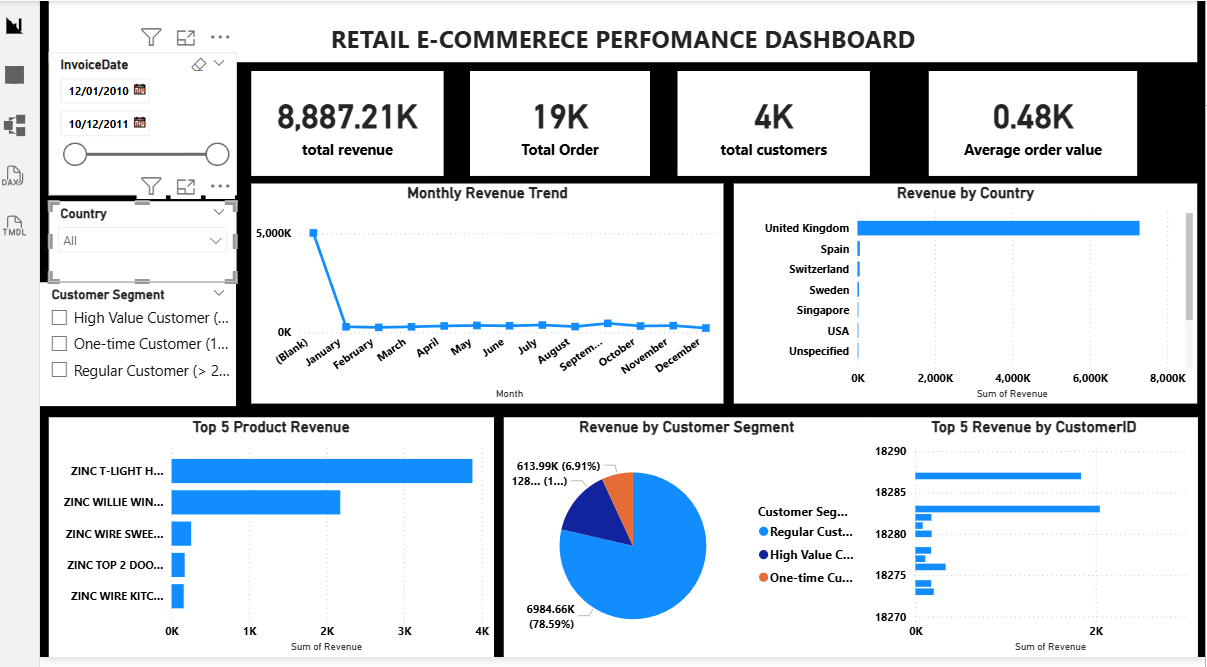

The page's visual inventory and layout, read from the dashboard file:
{"tool":"powerbi","page":{"name":"Page 1","canvas":[1280,720],"ordinal":0},"visuals":[{"type":"textbox","box":[9.6,0,1261.1,67.2],"z":0},{"type":"card","fields":{"Values":["Retail CSV.total revenue"]},"box":[231.9,76.8,211.3,115.3],"z":1000},{"type":"card","fields":{"Values":["Retail CSV.total ORDER"]},"box":[472,76.8,197.6,115.3],"z":2000},{"type":"card","fields":{"Values":["Retail CSV.total customers"]},"box":[699.8,76.8,211.3,115.3],"z":3000},{"type":"card","fields":{"Values":["Retail CSV.Average order value"]},"box":[975.6,76.8,229.2,115.3],"z":4000},{"type":"lineChart","title":"Monthly Revenue Trend","fields":{"Y":["Sum(Retail CSV.Revenue)"],"Category":["Retail CSV.InvoiceDate.Variation.Date Hierarchy.Month"]},"box":[231.9,200.3,518.7,241.5],"z":5000},{"type":"clusteredBarChart","title":"Revenue by Country","fields":{"Category":["Retail CSV.Country"],"Y":["Sum(Retail CSV.Revenue)"]},"box":[761.6,200.3,509.1,241.5],"z":6000},{"type":"clusteredBarChart","title":"Top 5 Product Revenue","fields":{"Category":["Retail CSV.Description"],"Y":["Sum(Retail CSV.Revenue)"]},"box":[9.6,456.9,488.5,263.5],"z":7000},{"type":"pieChart","title":" Revenue by Customer Segment","fields":{"Category":["Retail CSV.Customer Segment"],"Y":["Sum(Retail CSV.Revenue)"]},"box":[509.1,456.9,402.1,263.5],"z":8000},{"type":"clusteredBarChart","title":"Top 5 Revenue by CustomerID","fields":{"Category":["Retail CSV.CustomerID"],"Y":["Sum(Retail CSV.Revenue)"]},"box":[911,457,360,263],"z":9000},{"type":"slicer","fields":{"Values":["Retail CSV.InvoiceDate"]},"box":[9.6,56.3,205.8,156.4],"z":10000},{"type":"slicer","fields":{"Values":["Retail CSV.Country"]},"box":[0,203.1,205.8,89.2],"z":11000},{"type":"slicer","fields":{"Values":["Retail CSV.Customer Segment"]},"box":[0,308.7,215.4,135.8],"z":12000}]}

Visuals, with their boxes in screenshot pixels (x1, y1, x2, y2):
textbox: bbox(43, 0, 1194, 58)
card - Retail CSV.total revenue: bbox(246, 67, 439, 172)
card - Retail CSV.total ORDER: bbox(465, 67, 646, 172)
card - Retail CSV.total customers: bbox(673, 67, 866, 172)
card - Retail CSV.Average order value: bbox(925, 67, 1134, 172)
"Monthly Revenue Trend" lineChart: bbox(246, 180, 720, 400)
"Revenue by Country" clusteredBarChart: bbox(730, 180, 1194, 400)
"Top 5 Product Revenue" clusteredBarChart: bbox(43, 414, 489, 654)
" Revenue by Customer Segment" pieChart: bbox(499, 414, 866, 654)
"Top 5 Revenue by CustomerID" clusteredBarChart: bbox(866, 414, 1195, 654)
slicer - Retail CSV.InvoiceDate: bbox(43, 48, 231, 191)
slicer - Retail CSV.Country: bbox(35, 182, 222, 264)
slicer - Retail CSV.Customer Segment: bbox(35, 279, 231, 403)
